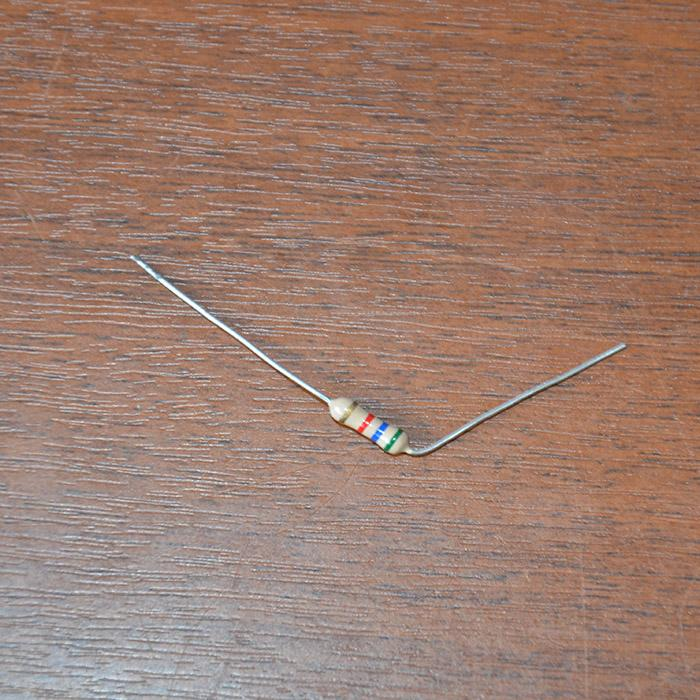resistor: (329, 396, 409, 455)
